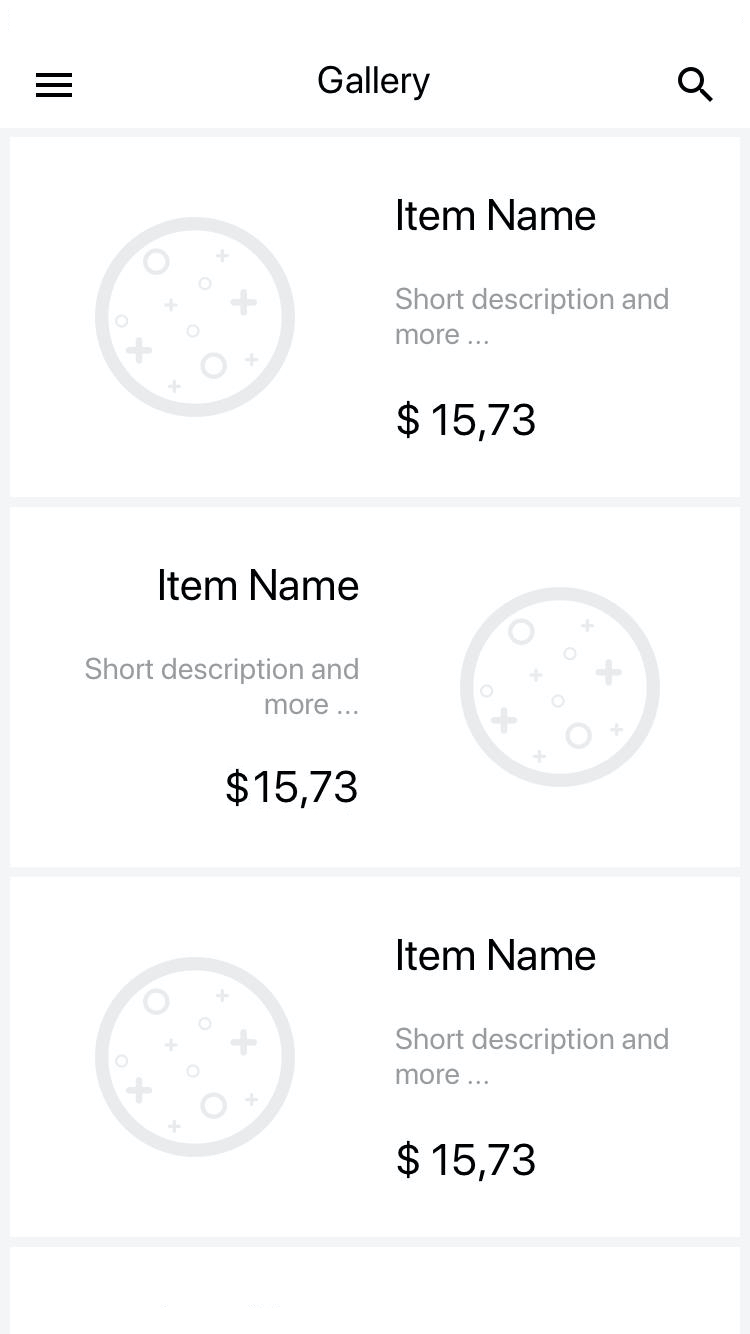Card: (9, 505, 741, 869), (9, 875, 742, 1238), (10, 137, 741, 499)
Icon: (677, 67, 714, 103), (36, 73, 74, 99)
Image: (94, 216, 297, 419), (93, 955, 296, 1157), (459, 586, 661, 788)
Text: (85, 657, 362, 717), (396, 1026, 670, 1086), (396, 287, 669, 345), (398, 938, 597, 972), (159, 569, 360, 602), (397, 198, 597, 231), (397, 401, 536, 443), (397, 1140, 536, 1182), (226, 768, 358, 809), (318, 65, 431, 101)
